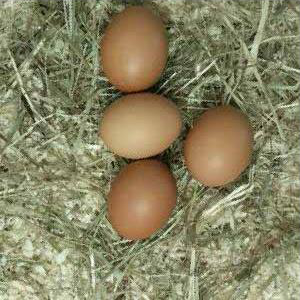egg: (102, 161, 178, 242), (100, 7, 168, 93), (183, 107, 252, 187), (100, 94, 182, 159)
